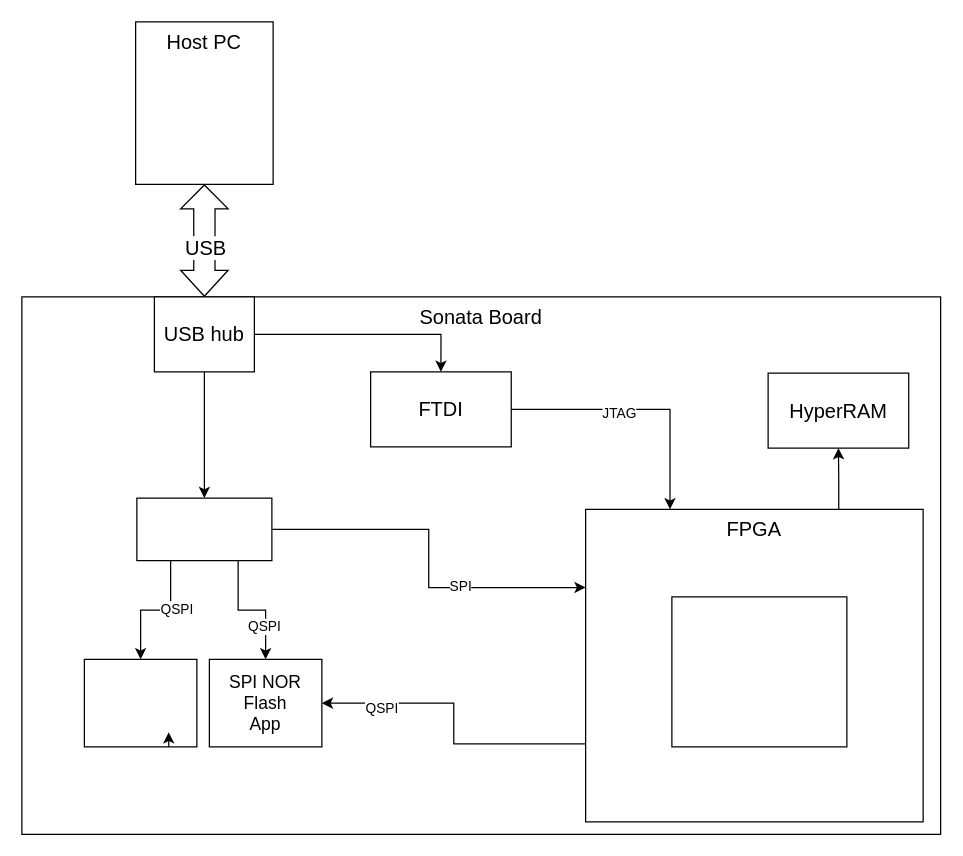
This 963x856 diagram has some shape labels left out. Here are the shapes that lost their labels. From the top down, the box of each, then its label:
(136, 497, 272, 561): RP2040
(671, 596, 847, 747): Ibex
(83, 658, 197, 747): SPI NOR Flash Bitstream
